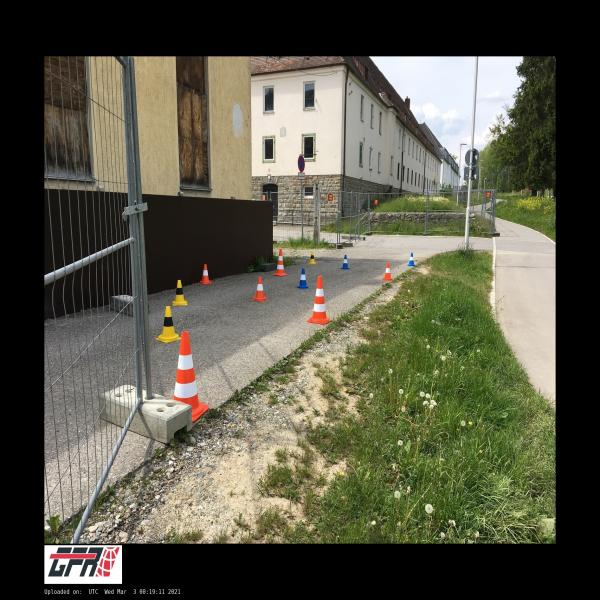blue_cone: (296, 268, 310, 289), (407, 253, 416, 266), (341, 255, 349, 269)
large_orange_cone: (174, 332, 209, 422), (307, 276, 332, 324), (273, 249, 287, 276)
orange_cone: (251, 276, 268, 302), (198, 264, 213, 284), (381, 263, 393, 281)
yellow_cone: (155, 306, 181, 343), (172, 280, 188, 306), (308, 251, 318, 264)
